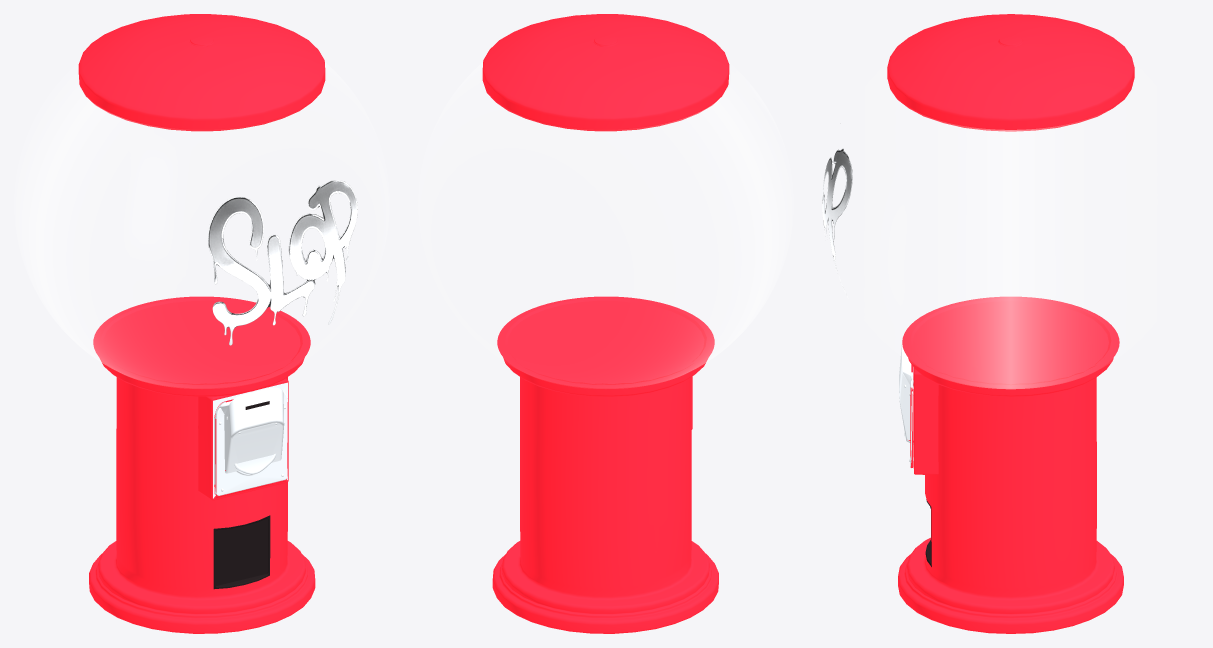
File: gachapon.glb
The picture shows the model from 3 angles, left to right: view 1: azimuth 30°, elevation 25°; view 2: azimuth 150°, elevation 25°; view 3: azimuth 270°, elevation 25°; orthographic projection.
Parts seen in each view (by area): view 1: Slop gumball machine; view 2: Slop gumball machine; view 3: Slop gumball machine.
Part boxes in pixels (x1,y1,x2,y2): Slop gumball machine: (16,14,388,633); Slop gumball machine: (432,14,791,633); Slop gumball machine: (822,14,1134,633).
Bounding box in the file's own units: 1.12 × 1.8 × 1.12.
Materials: 5 (1 with a texture image).
